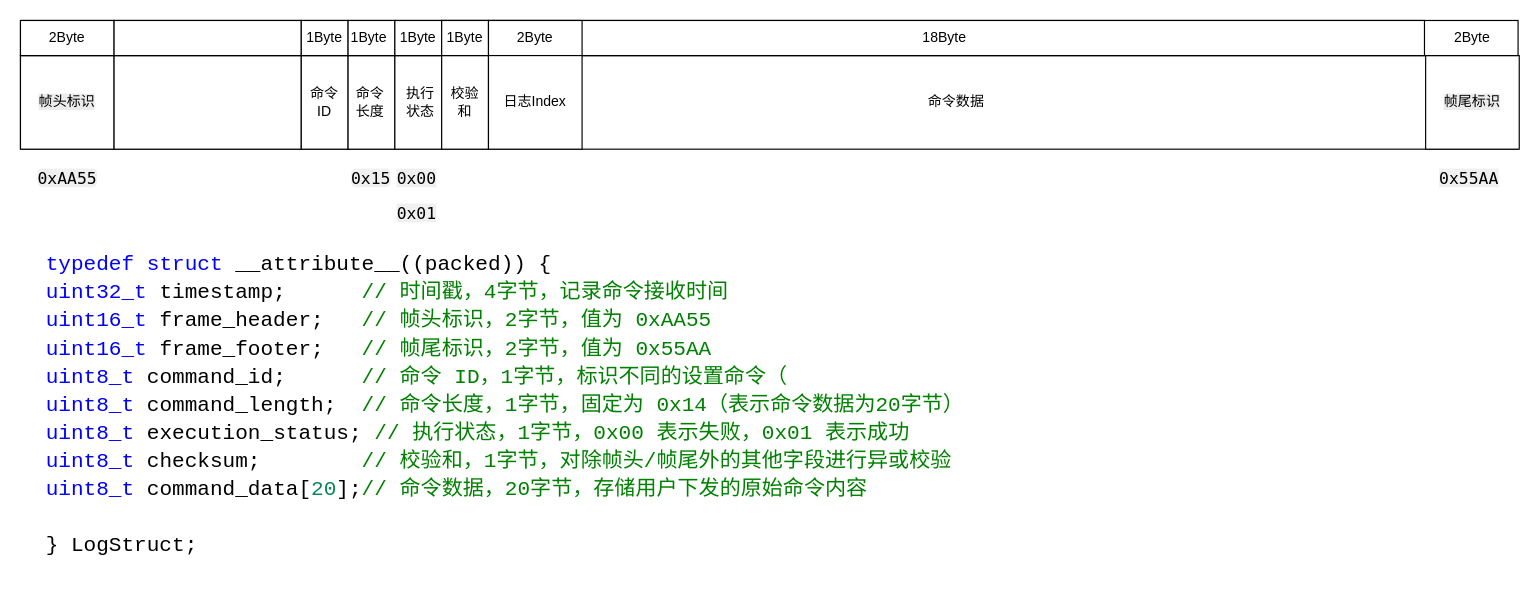
Some shapes in this 1540 by 603 pixel diagram are drawn without their labels. Here are the shapes that lost their labels. From the top down, the box of each, then its label:
(113, 19, 301, 56): 4Byte
(113, 54, 301, 149): 时间戳
